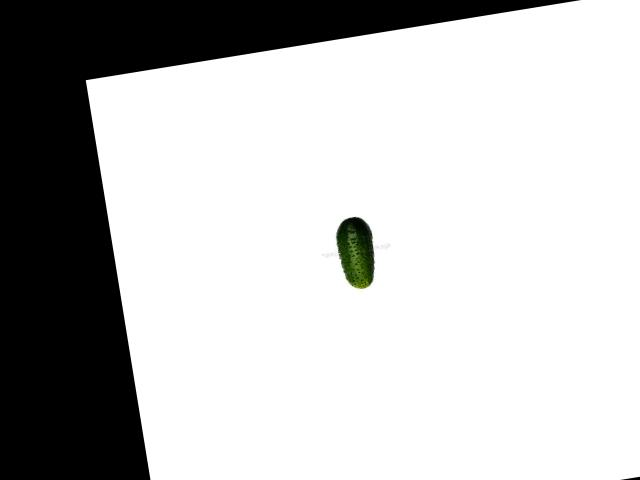cucumber: (331, 214, 380, 291)
